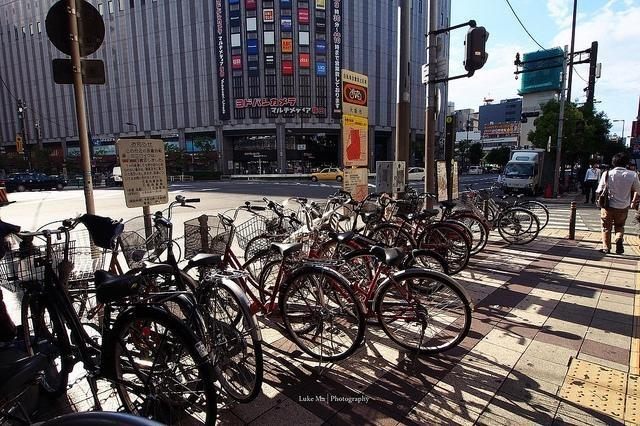bicycle: (10, 222, 224, 414), (122, 193, 267, 403), (287, 194, 477, 354), (73, 212, 226, 378), (209, 206, 366, 362), (383, 196, 468, 274), (264, 198, 364, 262), (409, 187, 490, 256), (338, 188, 423, 252), (237, 216, 300, 288), (468, 186, 540, 245), (512, 194, 552, 230)
car: (308, 164, 344, 184), (469, 166, 484, 174)
truck: (501, 145, 544, 195)
